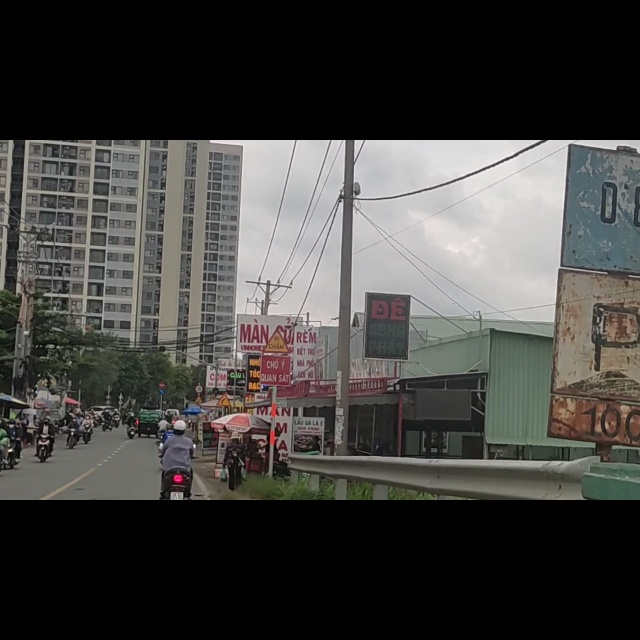bien_cam: (263, 338, 289, 379)
